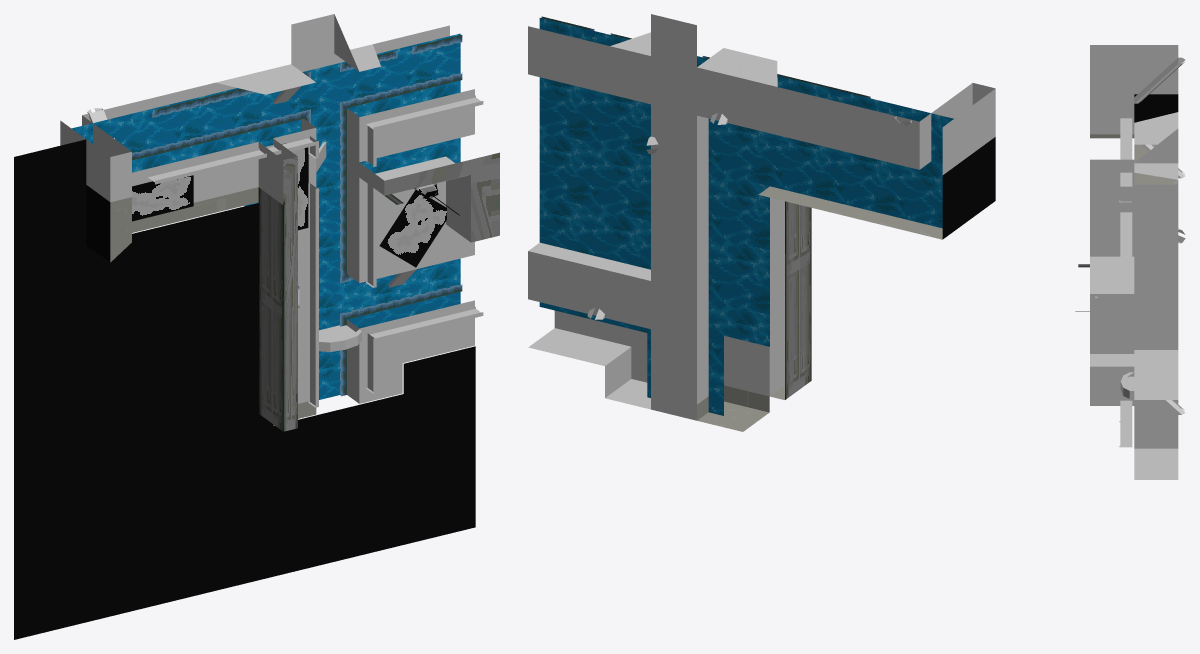
Rendered from Sewer-Main_00_03.obj.
3 views of the same model, side by side, from view 1: azimuth 30°, elevation 25°; view 2: azimuth 150°, elevation 25°; view 3: azimuth 270°, elevation 25° (orthographic). The views are drawn at different scales.
Parts seen in each view (by area): view 1: map; view 2: map; view 3: map.
Boxes of the visible parts, bbox=[...] form: map: bbox=[14, 14, 499, 639]; map: bbox=[528, 14, 995, 431]; map: bbox=[1075, 45, 1185, 479].
Size of the model in its own units: 32 by 34.62 by 7.5.
